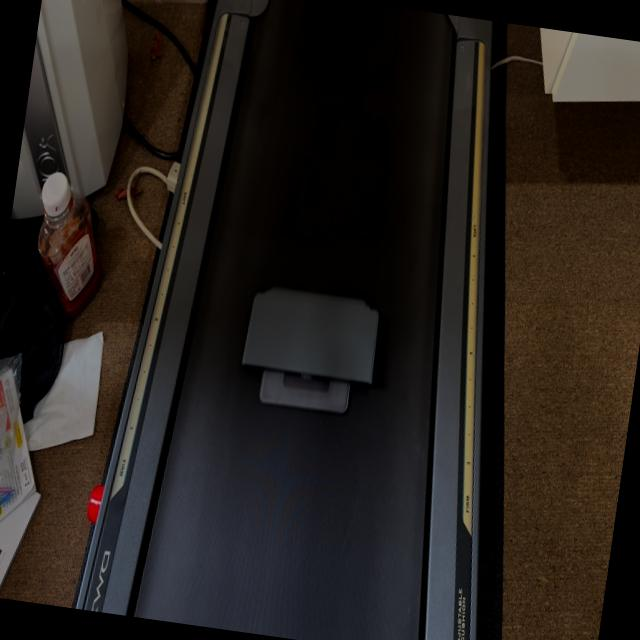Trash: (237, 280, 384, 418)
